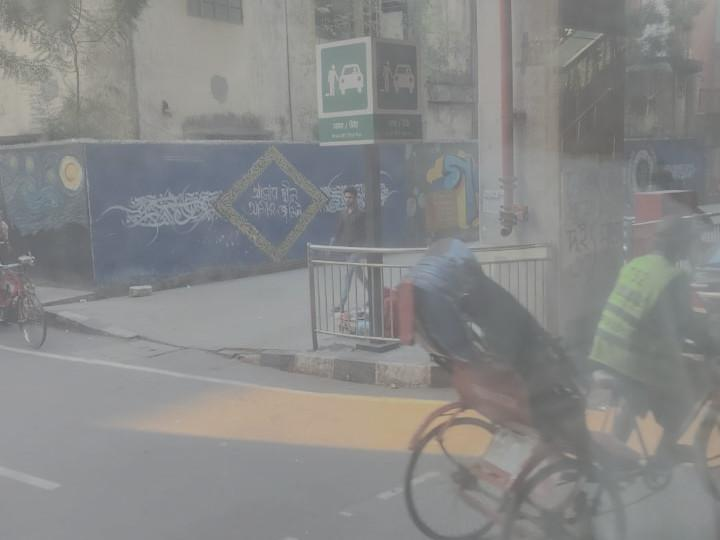Metro Dorp Up Pick up: (315, 37, 420, 145)
